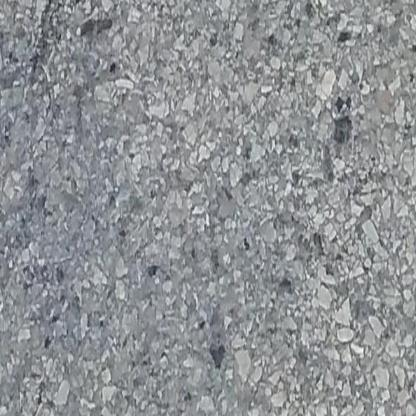Cracks: (29, 0, 70, 68)
